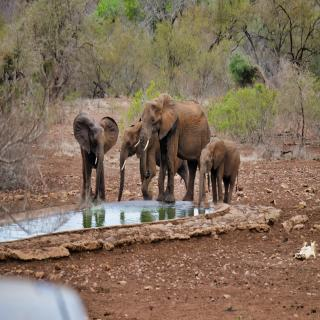Elephant: (134, 95, 210, 204), (72, 108, 119, 202), (196, 136, 244, 208)
